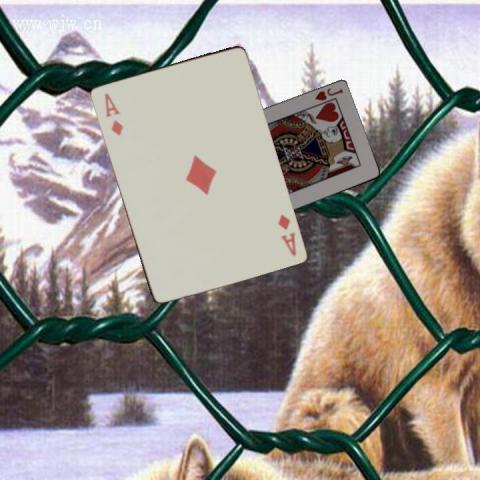Ad: (100, 90, 125, 138), (275, 211, 297, 258)
Jh: (312, 85, 344, 103)
